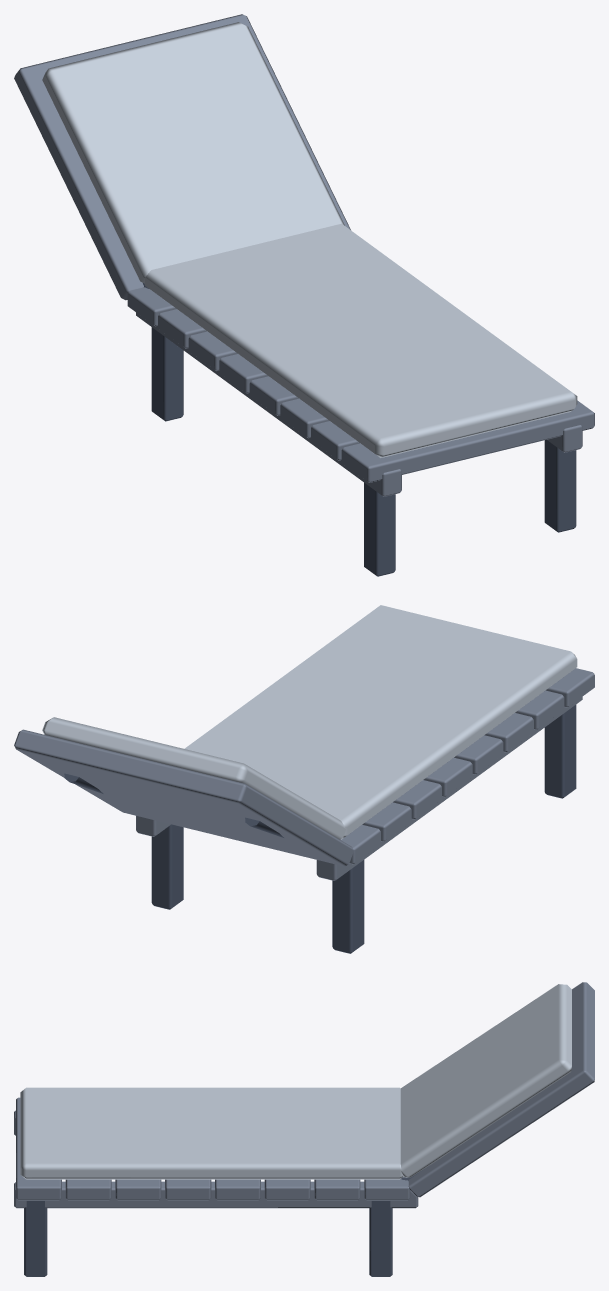
File: 日光躺椅-lite.glb
3 renders of one model, top to bottom at view 1: azimuth 30°, elevation 25°; view 2: azimuth 150°, elevation 25°; view 3: azimuth 270°, elevation 25°, orthographic. The views are drawn at different scales.
Parts seen in each view (by area): view 1: garden-lounger; view 2: garden-lounger; view 3: garden-lounger.
Boxes of the visible parts, x1,y1,x2,y2 form: garden-lounger: (14,14,594,576); garden-lounger: (14,605,594,953); garden-lounger: (14,982,594,1276).
Size of the model in its own units: 0.72 by 0.8 by 1.95.
